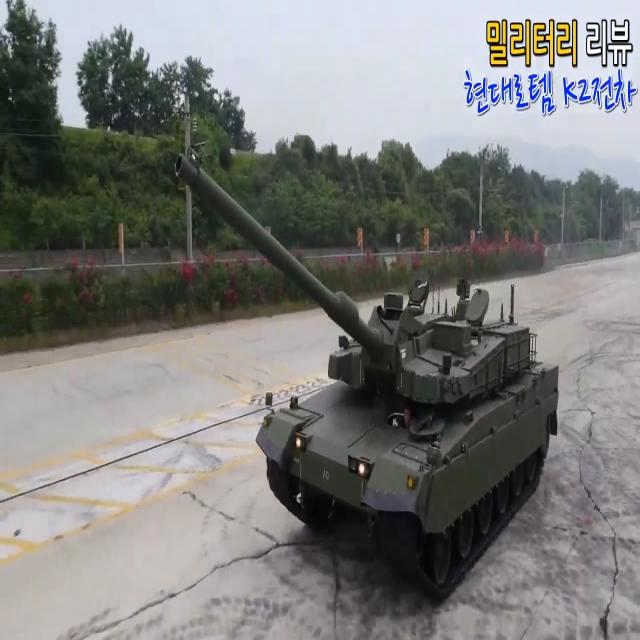korea tank: (175, 148, 560, 592)
